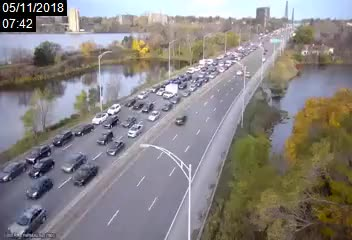congestion: (1, 127, 122, 237), (74, 90, 170, 147), (138, 65, 208, 105), (183, 52, 241, 76)
personal_car: (5, 204, 48, 239), (25, 175, 55, 200), (72, 162, 97, 187), (1, 158, 26, 183), (28, 156, 56, 178), (62, 151, 86, 176), (24, 143, 50, 164), (51, 129, 73, 146), (104, 140, 126, 156), (97, 130, 114, 145), (74, 123, 92, 137), (127, 123, 143, 138), (121, 114, 138, 128), (92, 111, 108, 125), (104, 117, 119, 127), (175, 113, 186, 126), (169, 94, 182, 105), (147, 111, 159, 121), (142, 102, 153, 112), (138, 89, 148, 99), (176, 80, 187, 89), (186, 84, 198, 91), (195, 78, 204, 87), (155, 87, 164, 96), (162, 102, 171, 111), (133, 101, 143, 109), (168, 77, 177, 85), (160, 80, 169, 88), (125, 98, 134, 106), (181, 89, 189, 97), (185, 66, 193, 73), (150, 84, 157, 92), (177, 72, 184, 79), (198, 71, 205, 77), (208, 72, 215, 78), (184, 74, 191, 80), (191, 76, 198, 82)
